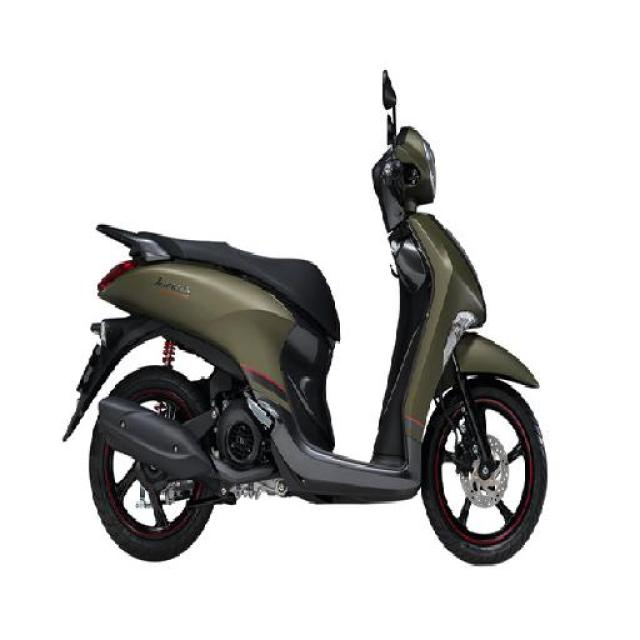All: (61, 74, 548, 568)
Head: (366, 120, 438, 210)
Tail: (87, 216, 171, 305)
